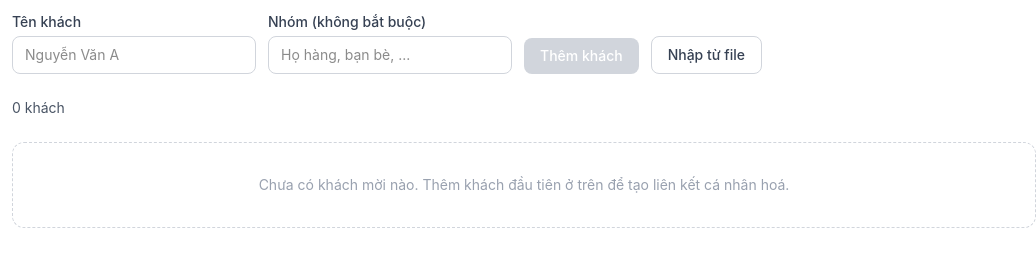
Test: GuestTable › thêm khách mới qua form nhanh và chèn lên đầu bảng
Type "Lê Văn Cường" into the field labelled "Tên khách" at {"x": 134, "y": 55}, box [12,36,256,74]
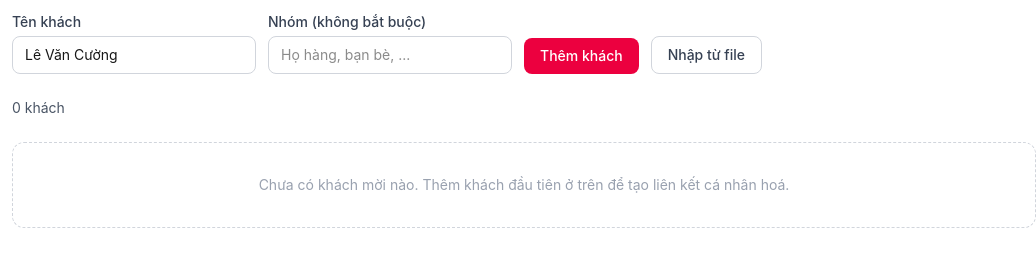
Type "Bạn thân" into the field labelled "Nhóm (không bắt buộc)" at {"x": 390, "y": 55}, box [268,36,512,74]
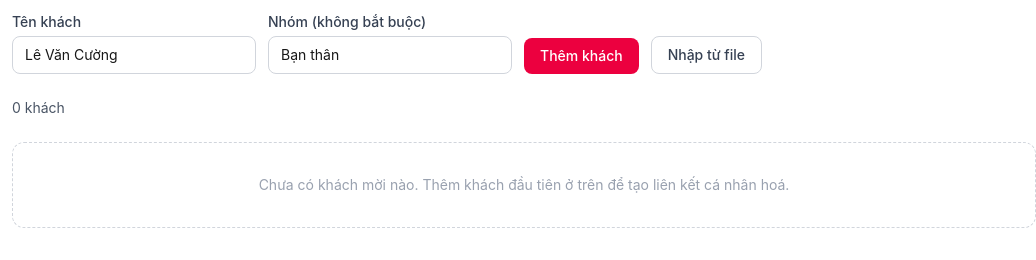
Click the button "Thêm khách" at {"x": 581, "y": 56}, box [524,38,639,74]
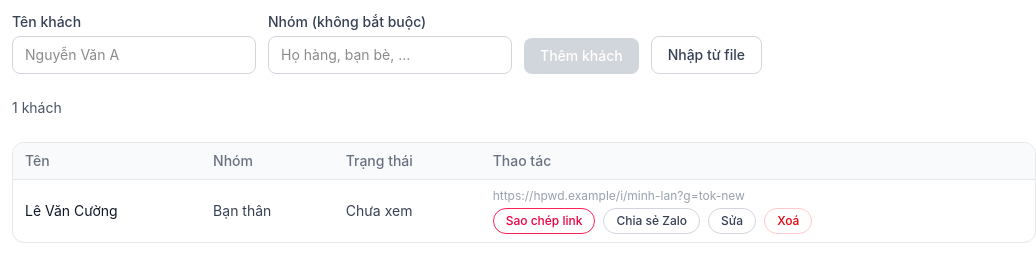
Now the text "Lê Văn Cường" is shown, box [13,180,201,242]
